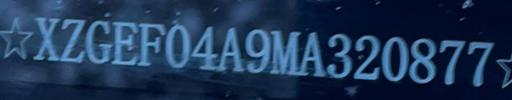letter: (268, 28, 302, 75), (214, 25, 246, 74), (294, 29, 326, 78), (407, 36, 439, 83), (437, 36, 467, 86), (324, 29, 354, 78), (352, 32, 382, 81), (465, 37, 495, 86), (188, 23, 218, 71), (242, 26, 272, 74), (379, 33, 409, 81), (137, 21, 167, 68), (84, 18, 114, 64), (110, 18, 138, 67), (32, 13, 60, 61), (58, 15, 86, 63), (164, 23, 192, 70)
